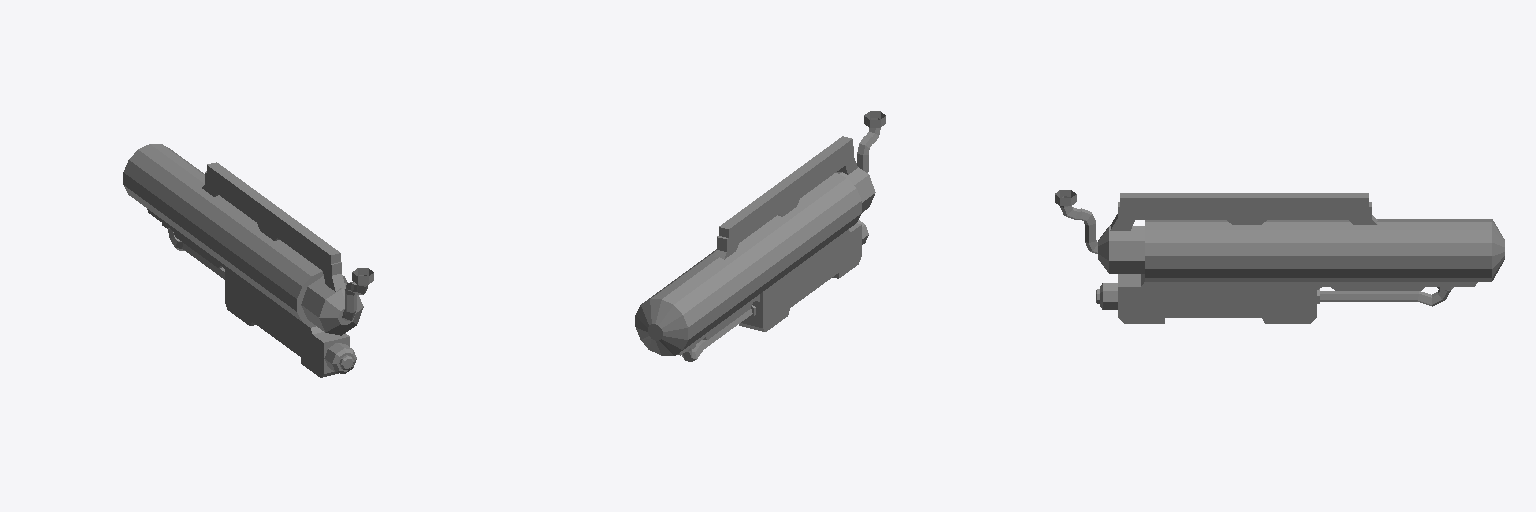
Rendered from acc3.obj.
3 views of the same model, side by side, from view 1: azimuth 30°, elevation 25°; view 2: azimuth 150°, elevation 25°; view 3: azimuth 270°, elevation 25° (orthographic).
Visible parts, largest first — view 1: acc3; view 2: acc3; view 3: acc3.
Boxes of the visible parts, x1=… form: acc3: x1=123, y1=144, x2=373, y2=377; acc3: x1=635, y1=111, x2=885, y2=361; acc3: x1=1055, y1=190, x2=1504, y2=323.
Size of the model in its own units: 3.23 by 7.25 by 23.88.